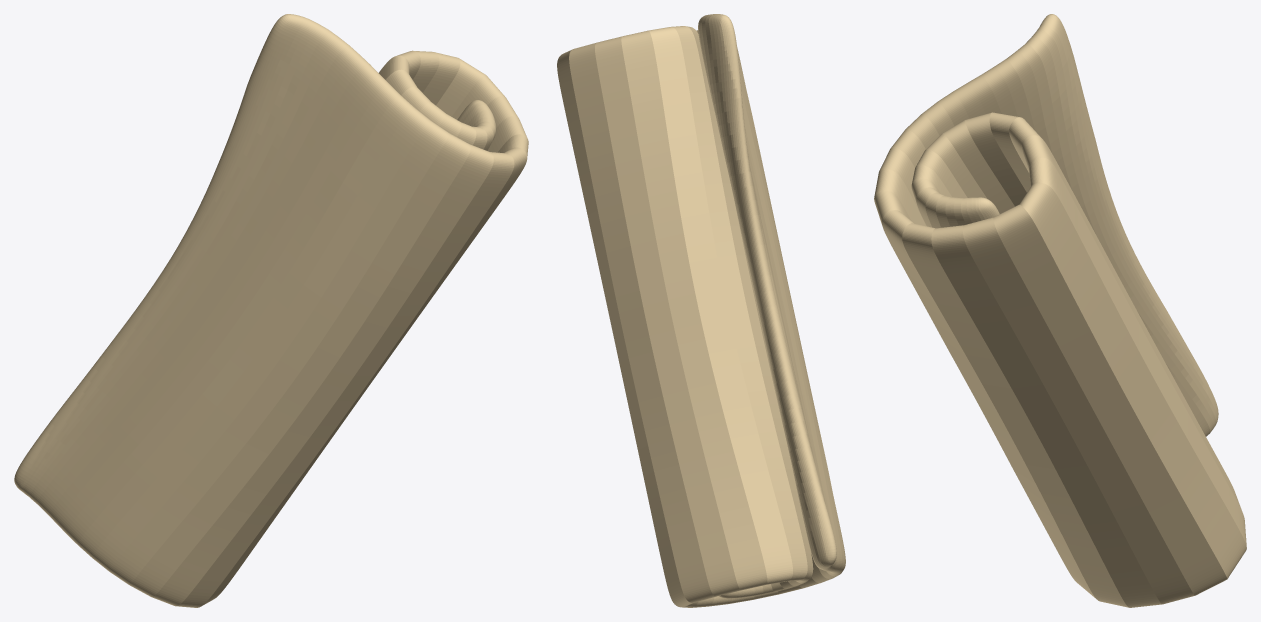
Rendered from shujuan.fbx.
The picture shows the model from 3 angles, left to right: view 1: azimuth 30°, elevation 25°; view 2: azimuth 150°, elevation 25°; view 3: azimuth 270°, elevation 25°; orthographic projection. The views are drawn at different scales.
Visible parts, largest first — view 1: 立方体.005; view 2: 立方体.005; view 3: 立方体.005.
Boxes of the visible parts, x1,y1,x2,y2 form: 立方体.005: (14,14,528,607); 立方体.005: (557,14,845,607); 立方体.005: (874,14,1246,607).
Size of the model in its own units: 120 by 174 by 95.62.
